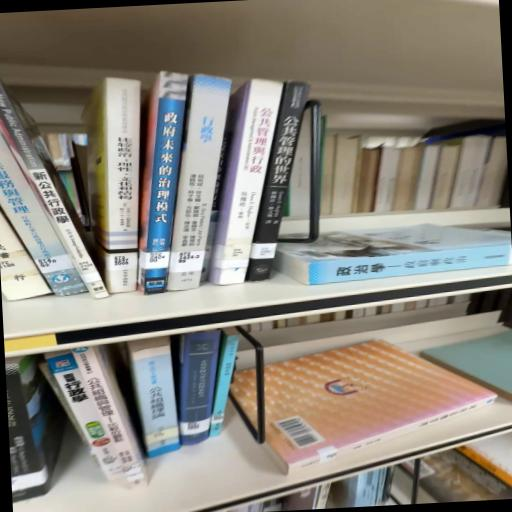flat: (231, 341, 497, 475), (275, 225, 512, 286)
